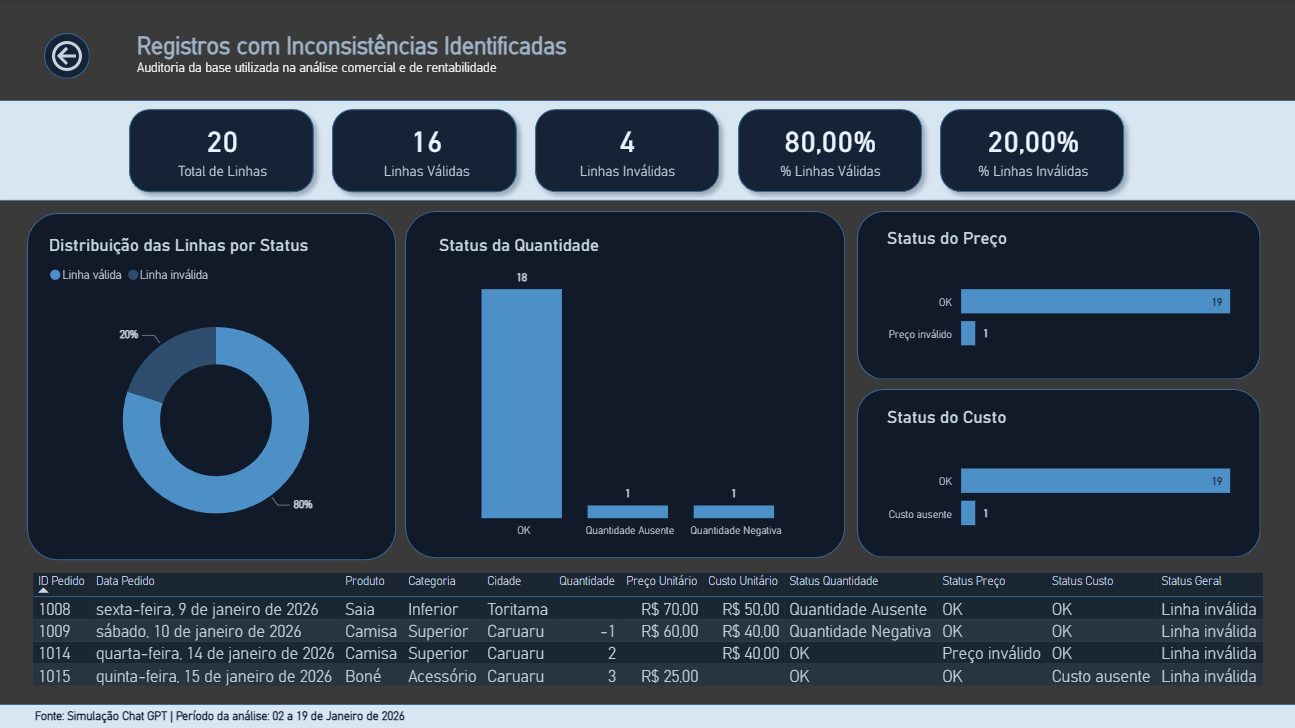

This screenshot's page, from the dashboard's own definition file:
{"tool":"powerbi","page":{"name":"Qualidade dos Dados","canvas":[1280,720],"ordinal":1},"visuals":[{"type":"shape","box":[44.1,33.9,45.2,45.2],"z":0,"group":"g2"},{"type":"shape","box":[27.1,211.4,364.1,342.6],"z":1000},{"type":"shape","box":[845.8,384.5,398,166.2],"z":2000},{"type":"shape","box":[119.1,99.3,200.1,100],"z":3000,"group":"g1"},{"type":"shape","box":[845.8,209.2,398,166.2],"z":3000},{"type":"shape","box":[319.2,99.3,200.1,100],"z":4000,"group":"g1"},{"type":"shape","box":[400.3,209.2,434.2,342.6],"z":4000},{"type":"shape","box":[0,99.5,1280,99.5],"z":5000},{"type":"shape","box":[719.3,99.6,199.5,99.8],"z":5000,"group":"g1"},{"type":"group","id":"g1","title":"Grupo 1","box":[119.1,99.3,998.5,100.4],"z":6000},{"type":"shape","box":[918.8,99.6,199.5,99.8],"z":6000,"group":"g1"},{"type":"card","fields":{"Values":["DAX.Total de Linhas"]},"box":[120,96.7,200.1,100],"z":7000},{"type":"card","fields":{"Values":["DAX.Linhas Válidas"]},"box":[320.1,96.7,202.8,100],"z":8000},{"type":"card","fields":{"Values":["DAX.Linhas Inválidas"]},"box":[520.2,96.7,200.1,100],"z":9000},{"type":"card","fields":{"Values":["DAX.% Linhas Válidas"]},"box":[720.3,96.7,200.1,100],"z":10000},{"type":"shape","box":[519.8,99.6,199.5,99.8],"z":10000,"group":"g1"},{"type":"card","fields":{"Values":["DAX.% Linhas Inválidas"]},"box":[920.4,96.7,200.1,100],"z":11000},{"type":"textbox","box":[131.2,27.1,476,64.5],"z":12000},{"type":"shape","box":[0,695.4,1280,24.9],"z":13000},{"type":"textbox","box":[30.5,695.4,796,23.7],"z":14000},{"type":"donutChart","title":"Distribuição das Linhas por Status","fields":{"Category":["Fato_Vendas_Confeccao.Status Geral"],"Y":["DAX.Total de Linhas"]},"box":[44.1,232.9,339.2,317.7],"z":15000},{"type":"columnChart","title":"Status da Quantidade","fields":{"Category":["Fato_Vendas_Confeccao.Status Quantidade"],"Y":["DAX.Total de Linhas"]},"box":[428.6,232.9,386.7,305.3],"z":16000},{"type":"clusteredBarChart","title":"Status do Preço","fields":{"Category":["Fato_Vendas_Confeccao.Status Preço"],"Y":["DAX.Total de Linhas"]},"box":[870.7,226.1,366.4,150.4],"z":17000},{"type":"barChart","title":"Status do Custo","fields":{"Category":["Fato_Vendas_Confeccao.Status Custo"],"Y":["DAX.Total de Linhas"]},"box":[870.7,402.5,366.4,151.5],"z":18000},{"type":"tableEx","fields":{"Values":["Fato_Vendas_Confeccao.ID Pedido","Fato_Vendas_Confeccao.Data Pedido","Fato_Vendas_Confeccao.Produto","Fato_Vendas_Confeccao.Categoria","Fato_Vendas_Confeccao.Cidade","Sum(Fato_Vendas_Confeccao.Quantidade Limpa)","Sum(Fato_Vendas_Confeccao.Preço Unitário Limpo)","Sum(Fato_Vendas_Confeccao.Custo Unitário Limpo)","Fato_Vendas_Confeccao.Status Quantidade","Fato_Vendas_Confeccao.Status Preço","Fato_Vendas_Confeccao.Status Custo","Fato_Vendas_Confeccao.Status Geral"]},"box":[27.1,560.8,1252.9,127.8],"z":19000},{"type":"actionButton","box":[47.2,36.6,54.4,39.4],"z":20000,"group":"g2"},{"type":"group","id":"g2","title":"Grupo 2","box":[44.1,33.9,57.6,45.2],"z":20001}]}

Visuals, with their boxes in screenshot pixels (x1, y1, x2, y2), scaled from the page's 1280x720 canvas onto the 1295x728 screenshot:
shape: bbox(45, 34, 90, 80)
shape: bbox(27, 214, 396, 560)
shape: bbox(856, 389, 1258, 557)
shape: bbox(120, 100, 323, 202)
shape: bbox(856, 212, 1258, 380)
shape: bbox(323, 100, 525, 202)
shape: bbox(405, 212, 844, 558)
shape: bbox(0, 101, 1294, 201)
shape: bbox(728, 101, 930, 202)
"Grupo 1" group: bbox(120, 100, 1131, 202)
shape: bbox(930, 101, 1131, 202)
card - DAX.Total de Linhas: bbox(121, 98, 324, 199)
card - DAX.Linhas Válidas: bbox(324, 98, 529, 199)
card - DAX.Linhas Inválidas: bbox(526, 98, 729, 199)
card - DAX.% Linhas Válidas: bbox(729, 98, 931, 199)
shape: bbox(526, 101, 728, 202)
card - DAX.% Linhas Inválidas: bbox(931, 98, 1134, 199)
textbox: bbox(133, 27, 614, 93)
shape: bbox(0, 703, 1294, 727)
textbox: bbox(31, 703, 836, 727)
"Distribuição das Linhas por Status" donutChart: bbox(45, 235, 388, 557)
"Status da Quantidade" columnChart: bbox(434, 235, 825, 544)
"Status do Preço" clusteredBarChart: bbox(881, 229, 1252, 381)
"Status do Custo" barChart: bbox(881, 407, 1252, 560)
tableEx - Fato_Vendas_Confeccao.ID Pedido x Fato_Vendas_Confeccao.Data Pedido: bbox(27, 567, 1294, 696)
actionButton: bbox(48, 37, 103, 77)
"Grupo 2" group: bbox(45, 34, 103, 80)
